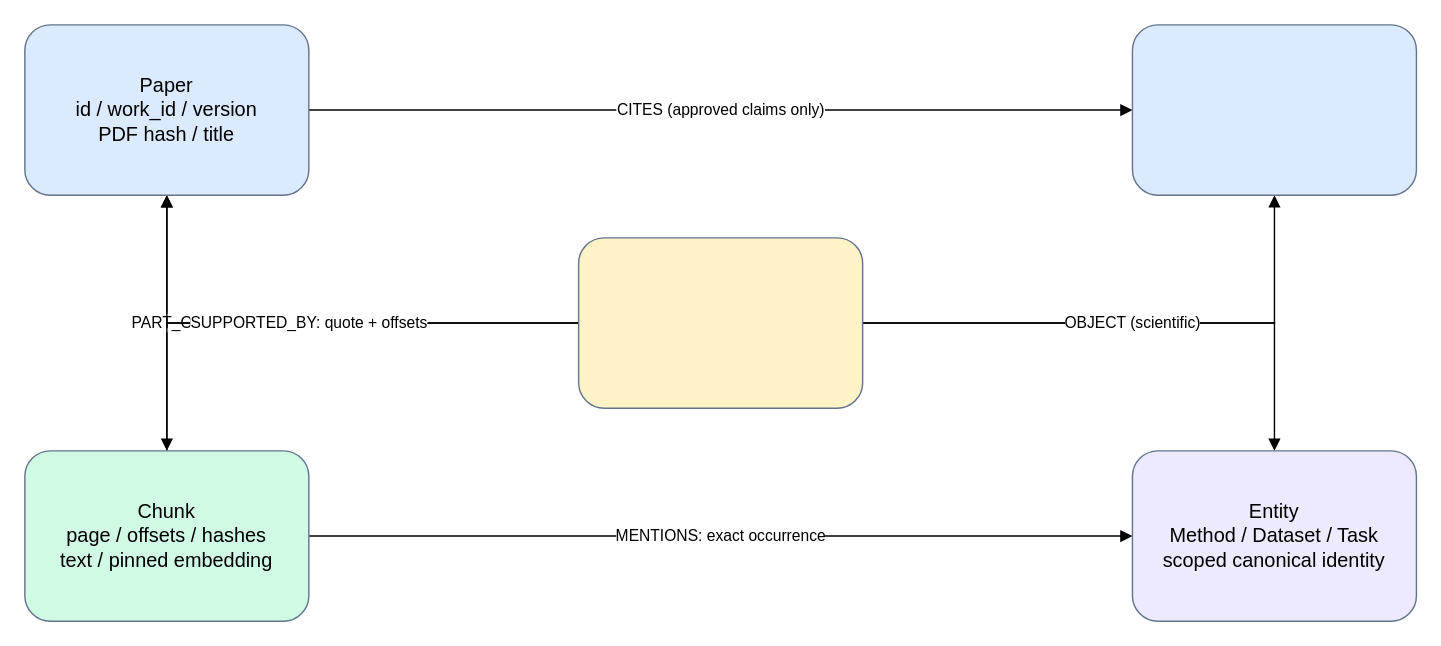
Some shapes in this 1441 by 646 pixel diagram are drawn without their labels. Each missing label, with the centre of its shape:
"Claim predicate / review history qualifications / status" goes at pixel 720 322.
"Paper (cited) work-level citation pinned local version" goes at pixel 1273 109.
